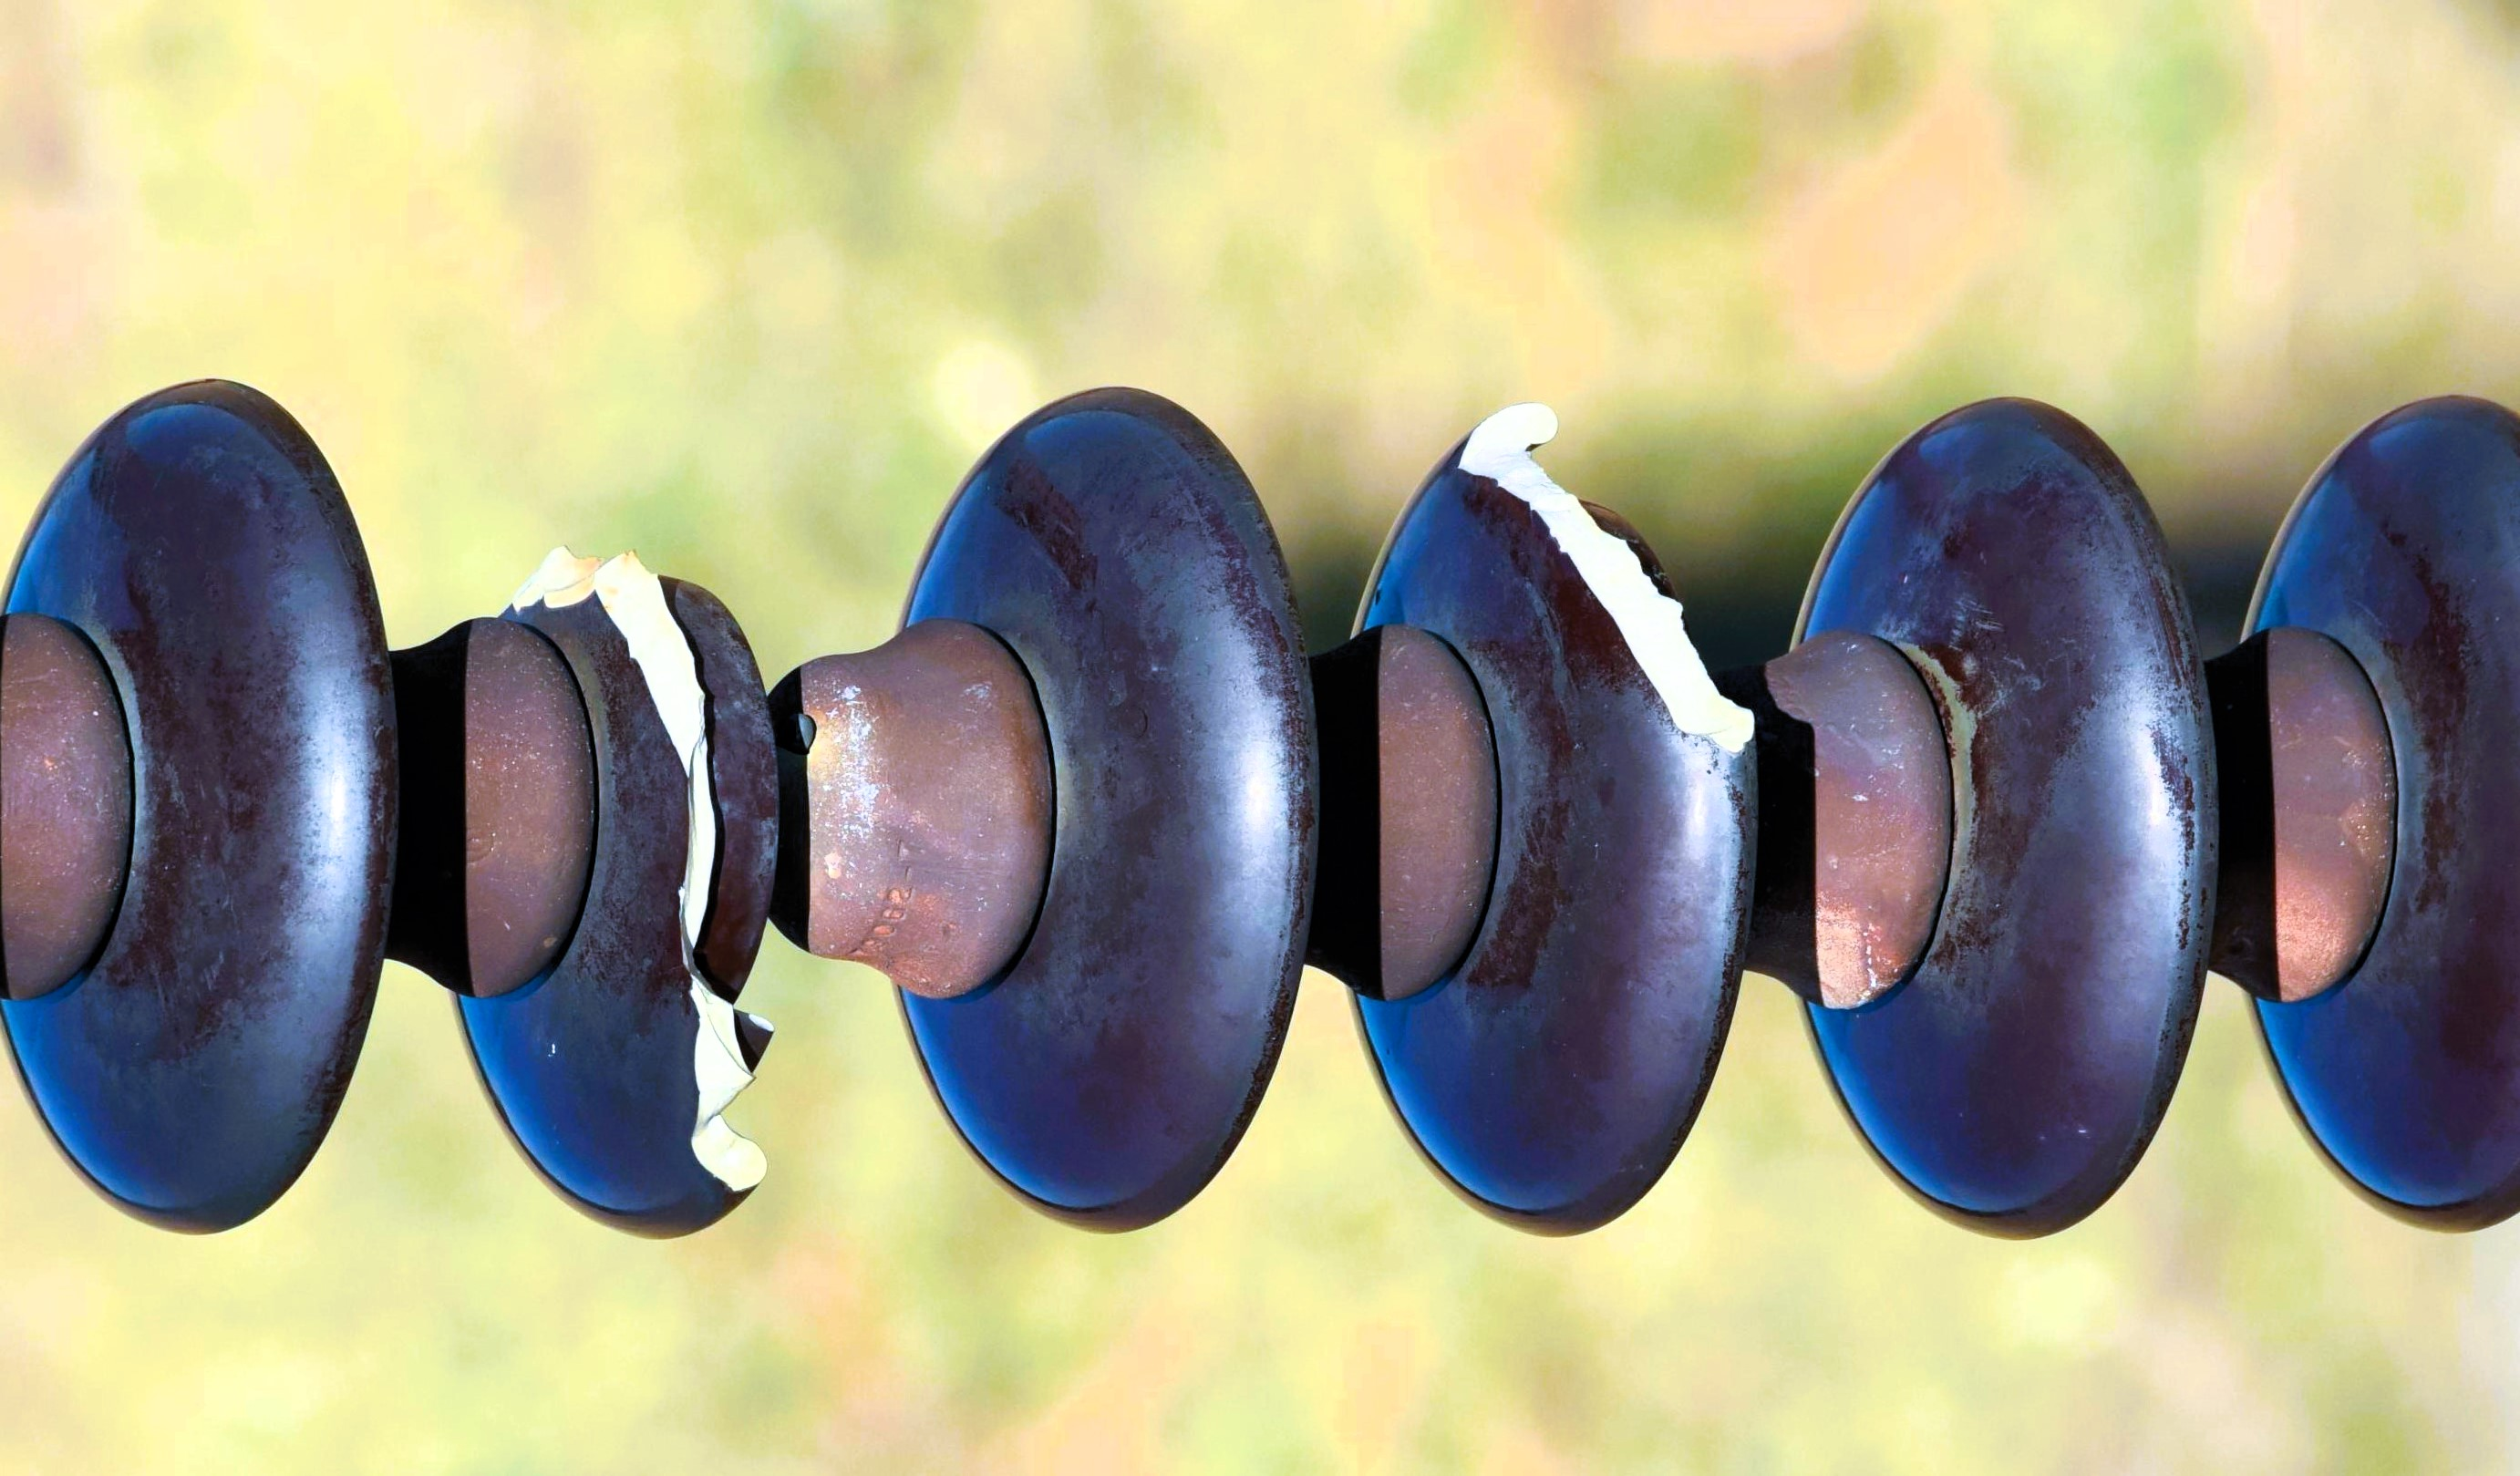insulator breakage: (1374, 358, 1775, 1253), (466, 499, 791, 1244)
